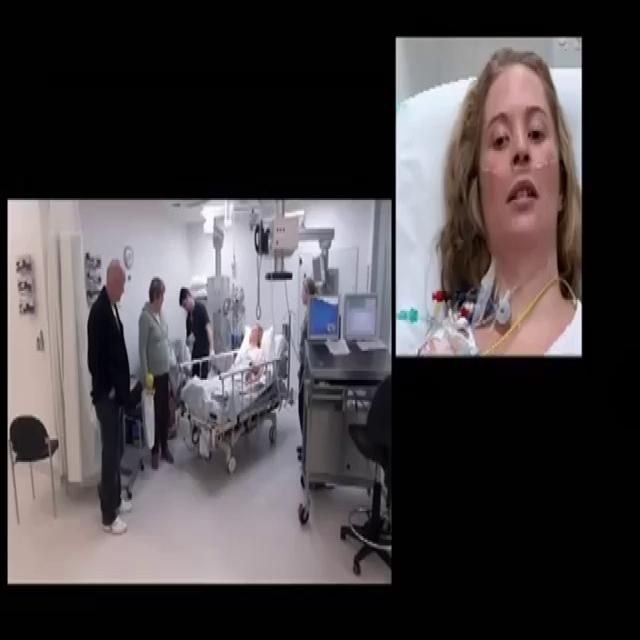monitor: (342, 291, 378, 340), (306, 293, 339, 342)
nurse: (178, 283, 218, 406)
others: (86, 256, 143, 533), (137, 275, 174, 469)
patient: (416, 46, 582, 357), (234, 322, 274, 414)
